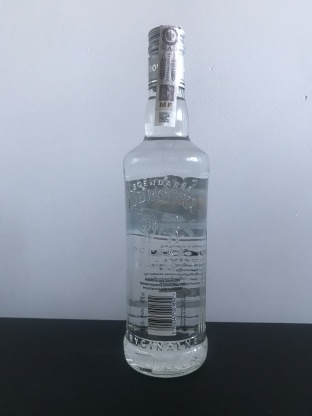nakretka: (144, 19, 188, 93)
